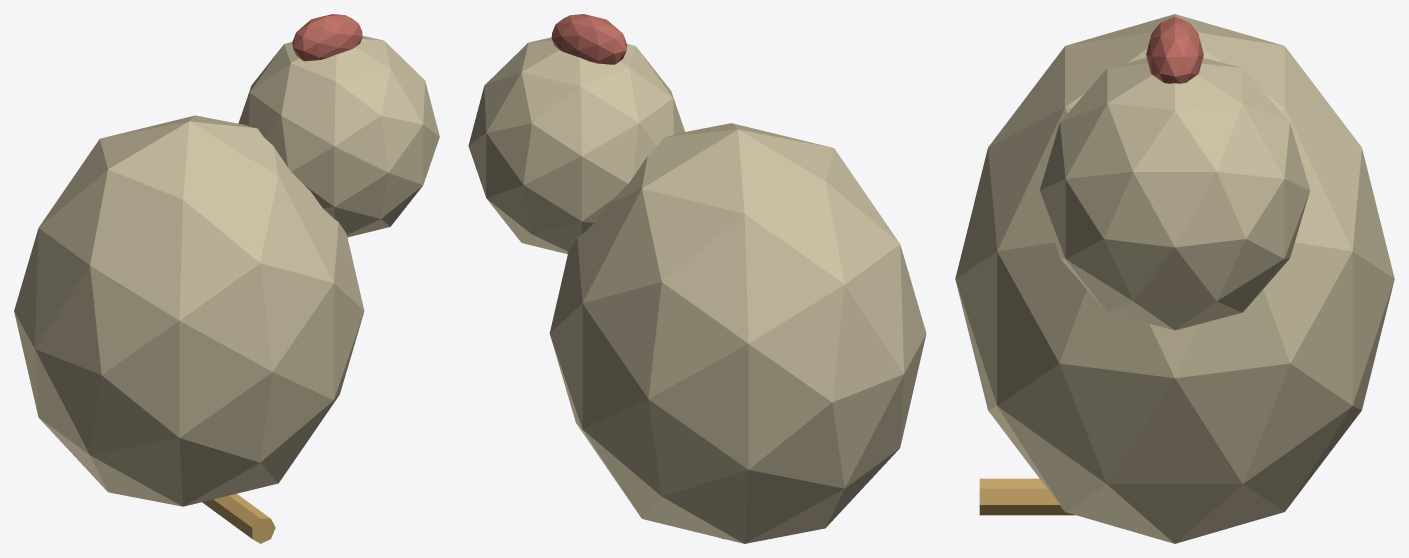
Rendered from chicken-eco.glb.
3 renders of one model, left to right at view 1: azimuth 30°, elevation 25°; view 2: azimuth 150°, elevation 25°; view 3: azimuth 270°, elevation 25°, orthographic. The views are drawn at different scales.
Parts seen in each view (by area): view 1: body, head, comb, leg; view 2: body, head, comb; view 3: body, head, comb, leg.
Part boxes in pixels (x1,y1,x2,y2): body: (14,115,364,506); head: (238,36,439,237); comb: (292,14,362,61); leg: (202,493,275,543); body: (549,123,926,543); head: (468,37,684,254); comb: (551,14,626,64); body: (955,14,1394,543); head: (1039,57,1310,330); comb: (1146,16,1203,83); leg: (979,478,1075,515).
Bounding box in the file's own units: 0.7928 × 0.8727 × 0.5848.
